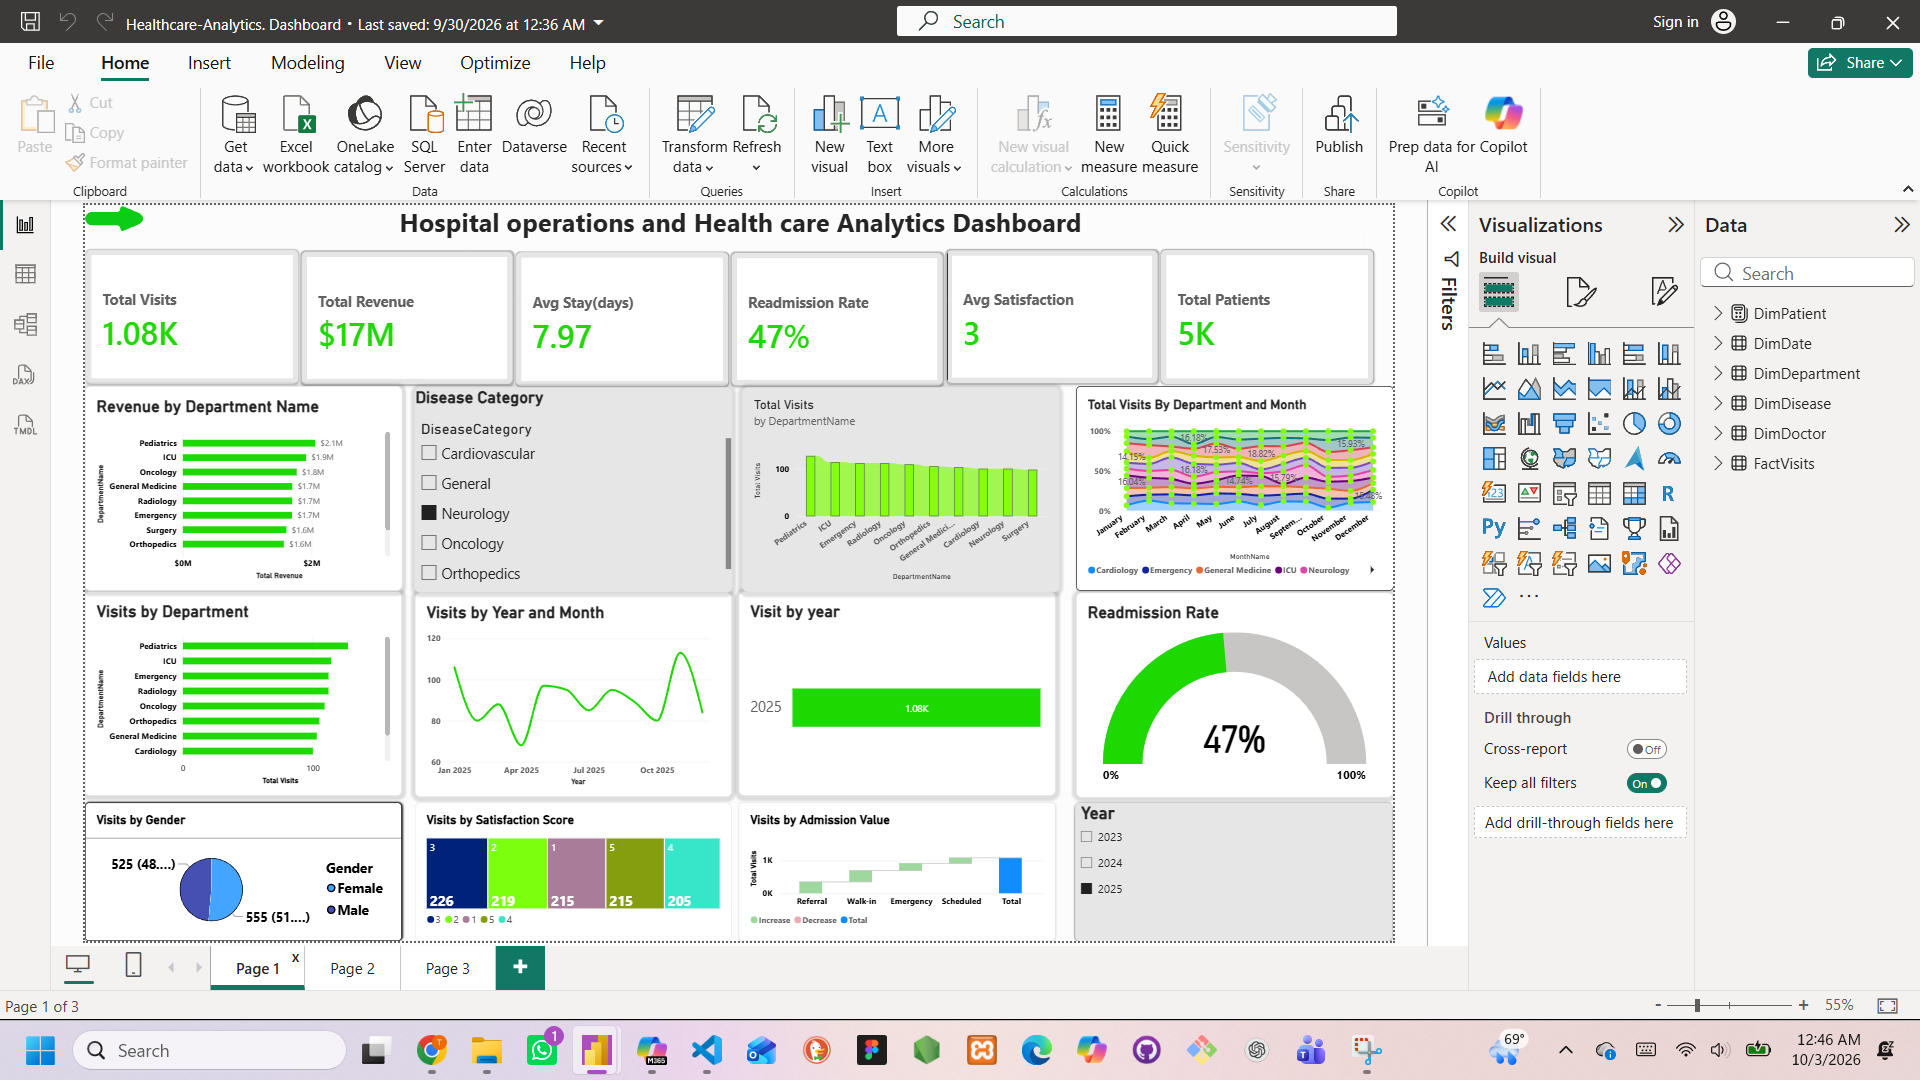

The dashboard page shown, as its layout file describes it:
{"tool":"powerbi","page":{"name":"Page 1","canvas":[1920,1080],"ordinal":0},"visuals":[{"type":"cardVisual","fields":{"Data":["FactVisits.Total Visits"]},"box":[0,64.7,315,200],"z":0},{"type":"cardVisual","fields":{"Data":["FactVisits.Total Revenue"]},"box":[315.5,66,315,200],"z":1000},{"type":"cardVisual","fields":{"Data":["FactVisits.Avg Length of Stay"]},"box":[631,67.9,315,200],"z":2000},{"type":"cardVisual","fields":{"Data":["FactVisits.Readmission Rate"]},"box":[946.5,67.9,315,200],"z":3000},{"type":"cardVisual","fields":{"Data":["FactVisits.Avg Satisfaction"]},"box":[1262,64.2,315,200],"z":4000},{"type":"clusteredBarChart","title":"Visits by Department","fields":{"Category":["DimDepartment.DepartmentName"],"Y":["FactVisits.Total Visits"]},"box":[0,566.8,465,300],"z":5000},{"type":"barChart","title":"Revenue by Department Name","fields":{"Category":["DimDepartment.DepartmentName"],"Y":["FactVisits.Total Revenue"]},"box":[0,265.4,465.4,300],"z":6000},{"type":"lineChart","title":" Visits by Year and Month","fields":{"Y":["FactVisits.Total Visits"],"Category":["DimDate.Date.Variation.Date Hierarchy.Year","DimDate.Date.Variation.Date Hierarchy.Month"]},"box":[484.2,568.6,465,300],"z":7000},{"type":"funnel","title":" Visit by year","fields":{"Category":["DimDate.Year","DimDate.MonthName"],"Y":["FactVisits.Total Visits"]},"box":[959.3,566.8,465,300],"z":8000},{"type":"slicer","fields":{"Values":["DimDate.Year"]},"box":[1452.7,876.8,465.9,203.6],"z":9000},{"type":"ribbonChart","fields":{"Category":["DimDepartment.DepartmentName"],"Y":["FactVisits.Total Visits"]},"box":[964.8,267.8,465,300],"z":10000},{"type":"slicer","title":"Disease Category","fields":{"Values":["DimDisease.DiseaseCategory"]},"box":[484.2,267.8,465,300.8],"z":11000},{"type":"textbox","box":[286.1,0,1351.8,66],"z":12000},{"type":"textbox","box":[564.3,26.2,1311.9,111.9],"z":13000},{"type":"cardVisual","fields":{"Data":["FactVisits.Total Patients"]},"box":[1577.5,64.2,315,200],"z":14000},{"type":"textbox","box":[613.7,0,186,150],"z":15000},{"type":"gauge","fields":{"Y":["FactVisits.Readmission Rate"]},"box":[1454.6,568.6,465,300.8],"z":16000},{"type":"pieChart","title":" Visits by Gender","fields":{"Category":["DimPatient.Gender"],"Y":["FactVisits.Total Visits"]},"box":[0,876.4,465,203],"z":17000},{"type":"treemap","title":" Visits by Satisfaction Score","fields":{"Values":["FactVisits.Total Visits"],"Group":["FactVisits.SatisfactionScore"]},"box":[484,877,465,203],"z":18000},{"type":"waterfallChart","title":"Visits by Admission Value","fields":{"Y":["FactVisits.Total Visits"],"Category":["FactVisits.AdmissionType"]},"box":[959,877,465,203],"z":19000},{"type":"actionButton","box":[0,0,100,40],"z":20000},{"type":"hundredPercentStackedAreaChart","title":"Total Visits By Department and Month","fields":{"Category":["DimDate.MonthName"],"Series":["DimDepartment.DepartmentName"],"Y":["FactVisits.Total Visits"]},"box":[1454.6,266,465.9,300],"z":21000}]}

Visuals, with their boxes on the page's 1920x1080 design canvas (x1, y1, x2, y2). These are canvas units, not pixel positions in the 1920x1080 screenshot, which may show the page scaled, cropped or inside an application window:
cardVisual - FactVisits.Total Visits: x1=0, y1=65, x2=315, y2=265
cardVisual - FactVisits.Total Revenue: x1=316, y1=66, x2=630, y2=266
cardVisual - FactVisits.Avg Length of Stay: x1=631, y1=68, x2=946, y2=268
cardVisual - FactVisits.Readmission Rate: x1=946, y1=68, x2=1262, y2=268
cardVisual - FactVisits.Avg Satisfaction: x1=1262, y1=64, x2=1577, y2=264
"Visits by Department" clusteredBarChart: x1=0, y1=567, x2=465, y2=867
"Revenue by Department Name" barChart: x1=0, y1=265, x2=465, y2=565
" Visits by Year and Month" lineChart: x1=484, y1=569, x2=949, y2=869
" Visit by year" funnel: x1=959, y1=567, x2=1424, y2=867
slicer - DimDate.Year: x1=1453, y1=877, x2=1919, y2=1080
ribbonChart - DimDepartment.DepartmentName x FactVisits.Total Visits: x1=965, y1=268, x2=1430, y2=568
"Disease Category" slicer: x1=484, y1=268, x2=949, y2=569
textbox: x1=286, y1=0, x2=1638, y2=66
textbox: x1=564, y1=26, x2=1876, y2=138
cardVisual - FactVisits.Total Patients: x1=1578, y1=64, x2=1892, y2=264
textbox: x1=614, y1=0, x2=800, y2=150
gauge - FactVisits.Readmission Rate: x1=1455, y1=569, x2=1920, y2=869
" Visits by Gender" pieChart: x1=0, y1=876, x2=465, y2=1079
" Visits by Satisfaction Score" treemap: x1=484, y1=877, x2=949, y2=1080
"Visits by Admission Value" waterfallChart: x1=959, y1=877, x2=1424, y2=1080
actionButton: x1=0, y1=0, x2=100, y2=40
"Total Visits By Department and Month" hundredPercentStackedAreaChart: x1=1455, y1=266, x2=1920, y2=566
